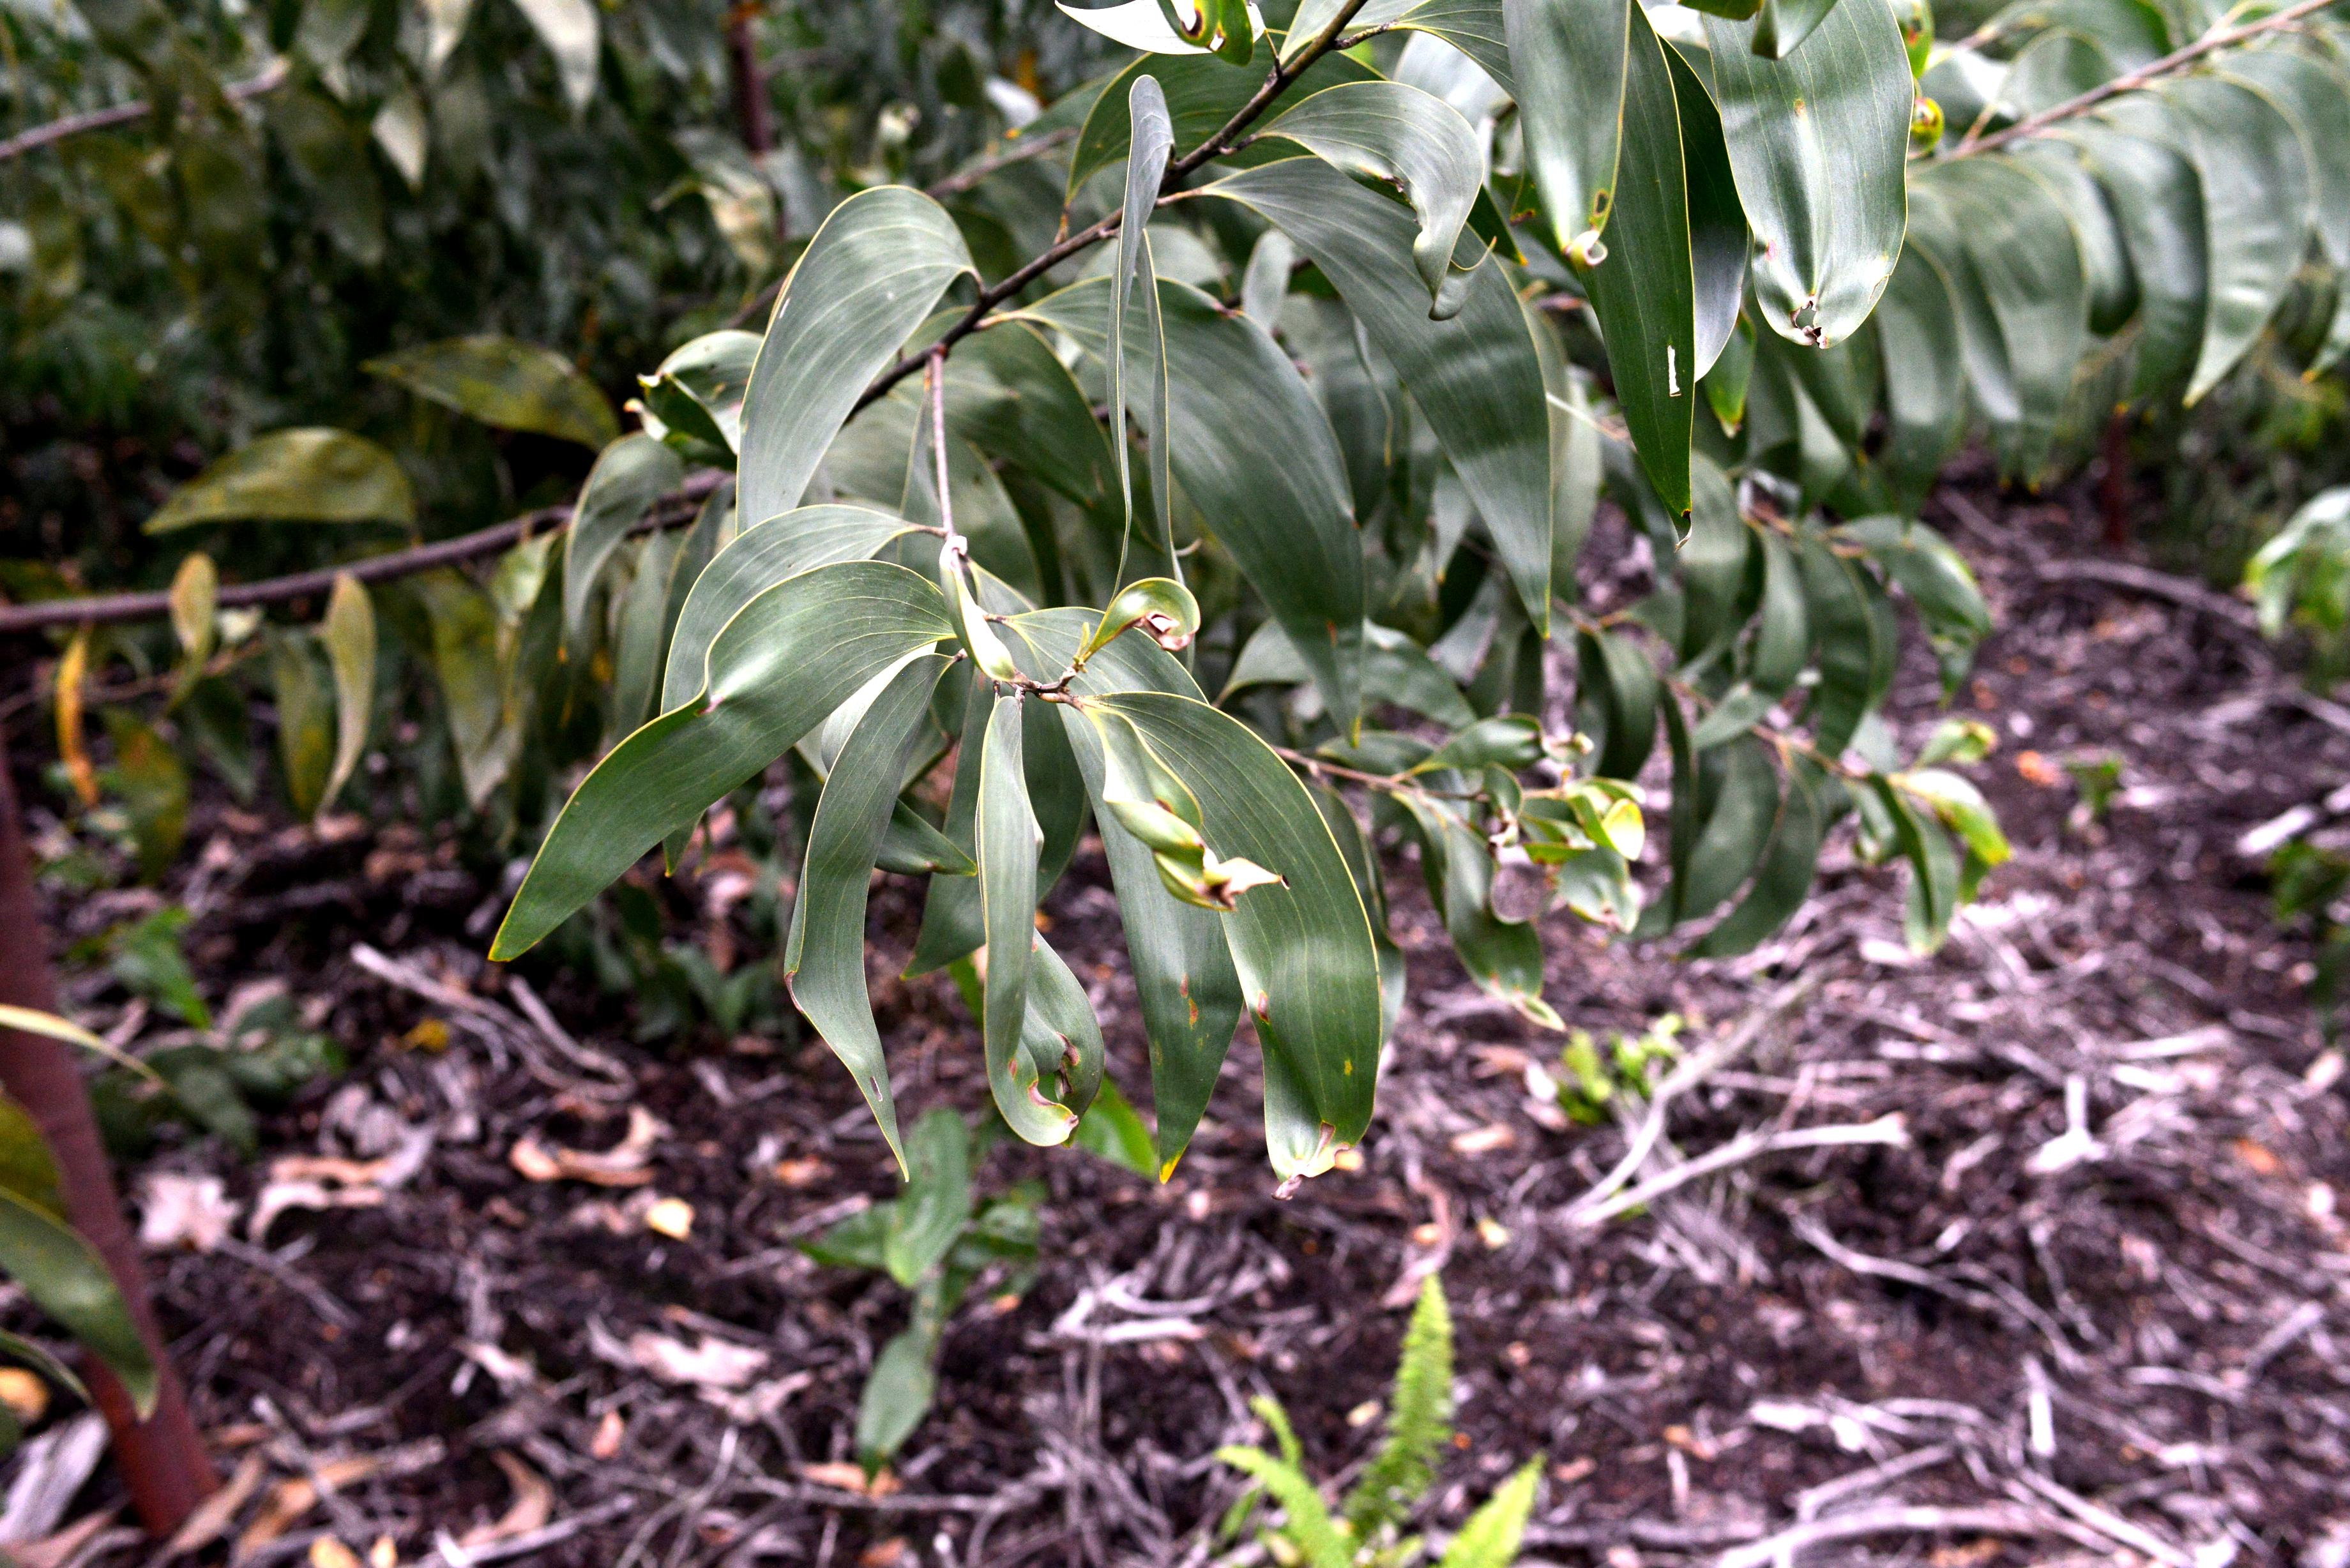Pasalora: (472, 556, 791, 994), (728, 166, 990, 511), (1710, 0, 1935, 360), (803, 675, 927, 1195), (968, 696, 1080, 1178), (1263, 72, 1494, 290), (556, 380, 737, 640), (1076, 696, 1284, 919), (1234, 929, 1386, 1192), (1862, 751, 2014, 964), (1521, 0, 1636, 266), (2242, 472, 2350, 707), (1512, 745, 1661, 905), (1053, 560, 1218, 670), (943, 534, 1029, 695)
